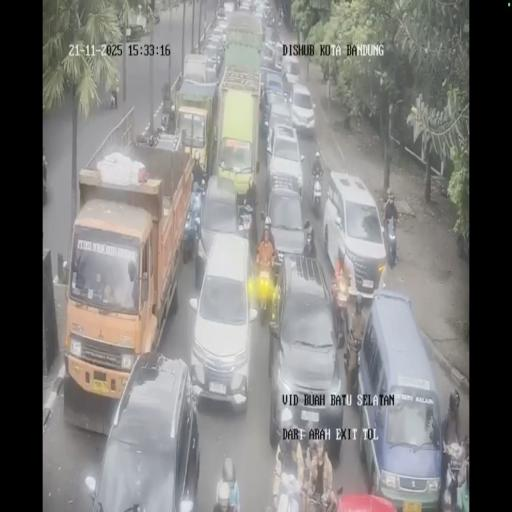car: (356, 289, 442, 501), (89, 354, 199, 509), (267, 257, 341, 453), (324, 172, 387, 298), (194, 174, 244, 286), (264, 185, 306, 266), (266, 121, 304, 199), (290, 83, 316, 135), (263, 70, 286, 107), (202, 40, 225, 76), (281, 54, 300, 88), (261, 38, 277, 68), (216, 3, 228, 20), (239, 0, 253, 13), (262, 1, 271, 17)
motorcycle: (254, 255, 274, 320), (383, 213, 398, 268), (237, 202, 254, 247), (310, 171, 323, 215), (278, 6, 283, 24)
truck: (212, 72, 262, 204), (173, 69, 218, 177), (124, 5, 148, 41), (150, 0, 160, 23)
